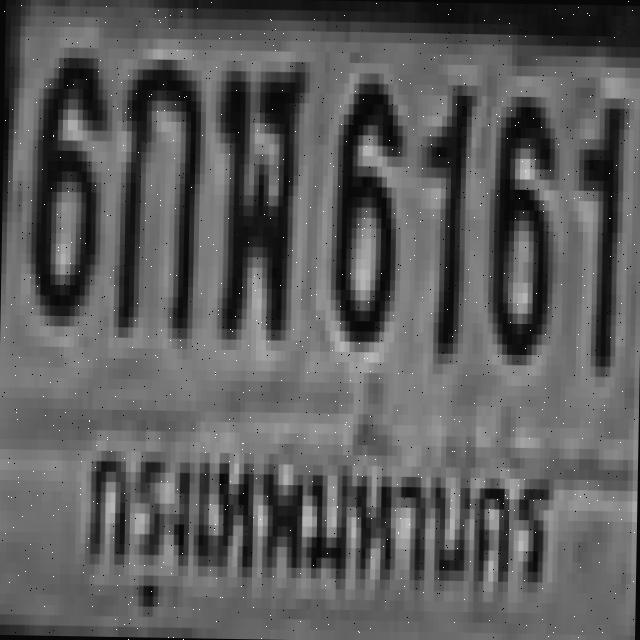1: (570, 88, 619, 366), (418, 79, 467, 348)
10GorGai: (113, 48, 197, 328)
51LorChula: (212, 55, 300, 325)
6: (24, 46, 104, 316), (325, 72, 398, 332), (487, 86, 551, 355)
Bangkok: (62, 410, 560, 632)
